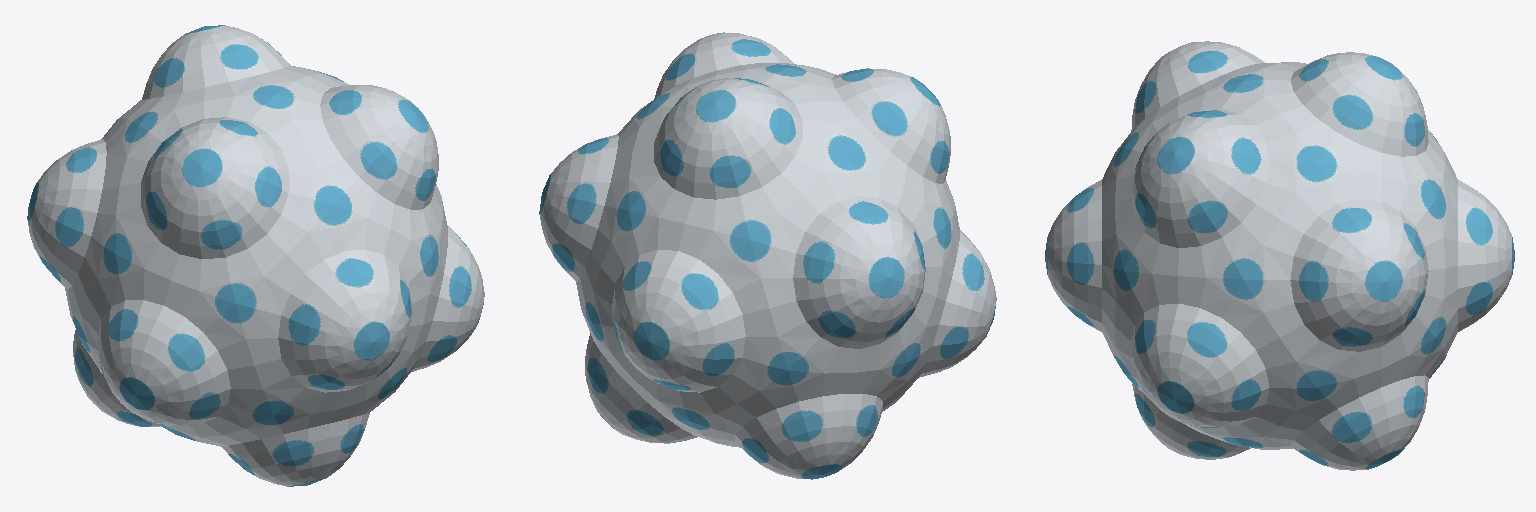
3 renders of one model, left to right at view 1: azimuth 30°, elevation 25°; view 2: azimuth 150°, elevation 25°; view 3: azimuth 270°, elevation 25°, orthographic.
Visible parts, largest first — view 1: core_23_0; view 2: core_23_0; view 3: core_23_0.
Part boxes in pixels (bbox=[...]): core_23_0: bbox=[27, 25, 484, 486]; core_23_0: bbox=[539, 32, 996, 479]; core_23_0: bbox=[1045, 41, 1514, 470].
Size of the model in its own units: 0.0478 by 0.0494 by 0.0537.
1 materials, 1 textured.